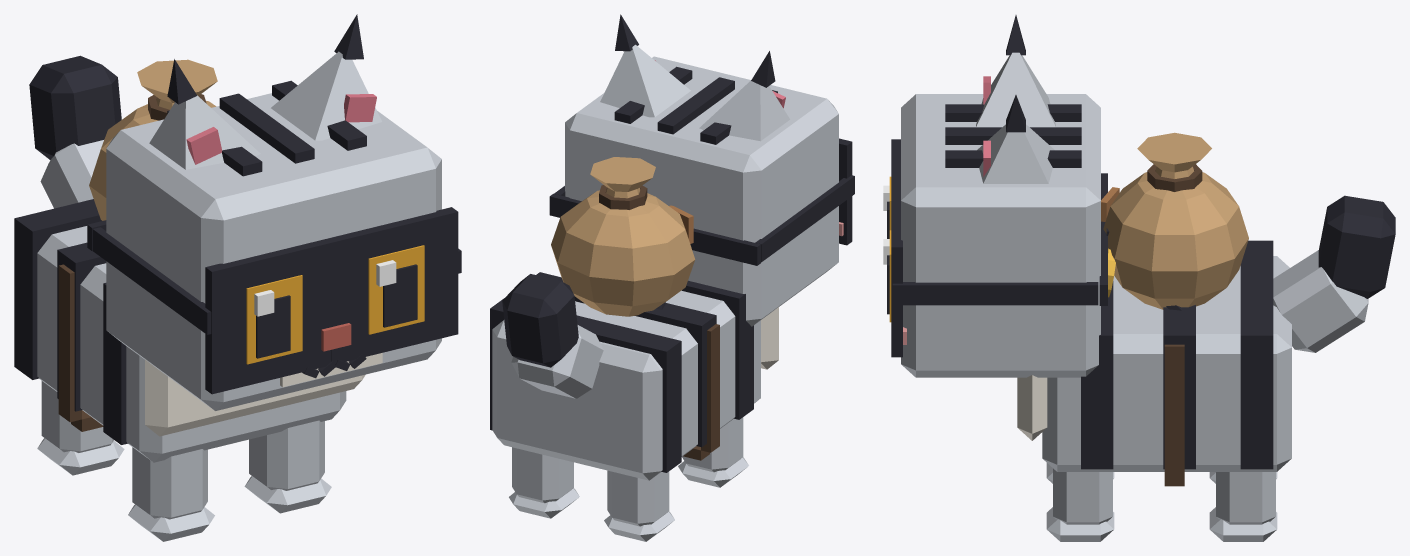
The model's file is CatCafe_Cat_MaineCoon.fbx.
3 views of the same model, side by side, from view 1: azimuth 30°, elevation 25°; view 2: azimuth 150°, elevation 25°; view 3: azimuth 270°, elevation 25° (orthographic). The views are drawn at different scales.
Parts seen in each view (by area): view 1: CatCafe_Cat_MaineCoon_Head, CatCafe_Cat_MaineCoon_Body, CatCafe_Cat_MaineCoon_Prop, CatCafe_Cat_MaineCoon_Tail, CatCafe_Cat_MaineCoon_Prop2, CatCafe_Cat_MaineCoon_LegF2, CatCafe_Cat_MaineCoon_EarL, CatCafe_Cat_MaineCoon_LegF1, CatCafe_Cat_MaineCoon_EarR, CatCafe_Cat_MaineCoon_Eye1, CatCafe_Cat_MaineCoon_Eye2, CatCafe_Cat_MaineCoon_LegB2; view 2: CatCafe_Cat_MaineCoon_Head, CatCafe_Cat_MaineCoon_Body, CatCafe_Cat_MaineCoon_Prop2, CatCafe_Cat_MaineCoon_Tail, CatCafe_Cat_MaineCoon_Prop, CatCafe_Cat_MaineCoon_EarL, CatCafe_Cat_MaineCoon_LegB2, CatCafe_Cat_MaineCoon_LegB1, CatCafe_Cat_MaineCoon_EarR, CatCafe_Cat_MaineCoon_LegF2; view 3: CatCafe_Cat_MaineCoon_Head, CatCafe_Cat_MaineCoon_Body, CatCafe_Cat_MaineCoon_Prop2, CatCafe_Cat_MaineCoon_Tail, CatCafe_Cat_MaineCoon_Prop, CatCafe_Cat_MaineCoon_LegF1, CatCafe_Cat_MaineCoon_LegB1, CatCafe_Cat_MaineCoon_EarR, CatCafe_Cat_MaineCoon_EarL.
Part boxes in pixels (x1,y1,x2,y2): CatCafe_Cat_MaineCoon_Head: (106, 80, 441, 410); CatCafe_Cat_MaineCoon_Body: (14, 199, 365, 462); CatCafe_Cat_MaineCoon_Prop: (87, 207, 461, 394); CatCafe_Cat_MaineCoon_Tail: (29, 55, 121, 208); CatCafe_Cat_MaineCoon_Prop2: (58, 59, 217, 431); CatCafe_Cat_MaineCoon_LegF2: (128, 447, 214, 541); CatCafe_Cat_MaineCoon_EarL: (271, 14, 381, 140); CatCafe_Cat_MaineCoon_LegF1: (244, 420, 331, 513); CatCafe_Cat_MaineCoon_EarR: (149, 59, 260, 169); CatCafe_Cat_MaineCoon_Eye1: (368, 245, 424, 334); CatCafe_Cat_MaineCoon_Eye2: (246, 275, 302, 364); CatCafe_Cat_MaineCoon_LegB2: (37, 381, 124, 475); CatCafe_Cat_MaineCoon_Head: (565, 56, 843, 326); CatCafe_Cat_MaineCoon_Body: (490, 272, 778, 480); CatCafe_Cat_MaineCoon_Prop2: (551, 157, 719, 460); CatCafe_Cat_MaineCoon_Tail: (502, 274, 603, 398); CatCafe_Cat_MaineCoon_Prop: (549, 138, 854, 309); CatCafe_Cat_MaineCoon_EarL: (600, 14, 690, 117); CatCafe_Cat_MaineCoon_LegB2: (604, 470, 674, 541); CatCafe_Cat_MaineCoon_LegB1: (509, 447, 579, 518); CatCafe_Cat_MaineCoon_EarR: (699, 51, 789, 141); CatCafe_Cat_MaineCoon_LegF2: (678, 417, 748, 487); CatCafe_Cat_MaineCoon_Head: (901, 94, 1100, 377); CatCafe_Cat_MaineCoon_Body: (1017, 240, 1291, 471); CatCafe_Cat_MaineCoon_Prop2: (1101, 132, 1248, 486); CatCafe_Cat_MaineCoon_Tail: (1273, 195, 1395, 352); CatCafe_Cat_MaineCoon_Prop: (891, 139, 1181, 357); CatCafe_Cat_MaineCoon_LegF1: (1046, 468, 1114, 541); CatCafe_Cat_MaineCoon_LegB1: (1209, 472, 1277, 541); CatCafe_Cat_MaineCoon_EarR: (976, 15, 1055, 127); CatCafe_Cat_MaineCoon_EarL: (977, 95, 1054, 183).
Bounding box in the file's own units: 1.27 × 2.4 × 2.46.
Materials: 1 (1 with a texture image).
